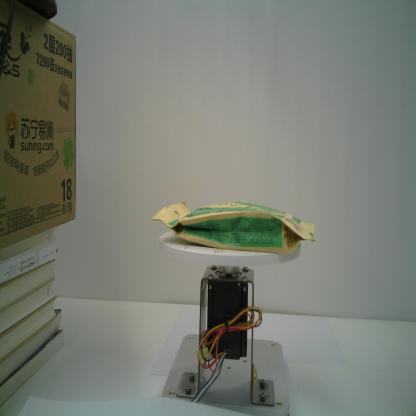Dried Food: (147, 194, 319, 260)
